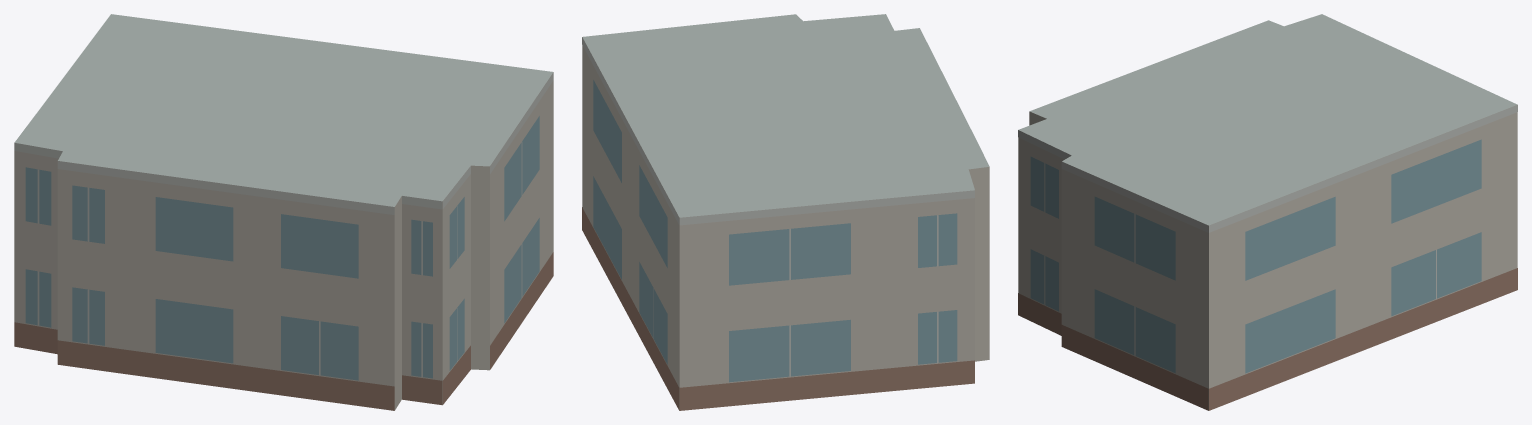
File: survey-upis-32868552.glb
The picture shows the model from 3 angles, left to right: view 1: azimuth 30°, elevation 25°; view 2: azimuth 150°, elevation 25°; view 3: azimuth 270°, elevation 25°; orthographic projection. The views are drawn at different scales.
Parts seen in each view (by area): view 1: survey-upis-32868552.tmp; view 2: survey-upis-32868552.tmp; view 3: survey-upis-32868552.tmp.
Boxes of the visible parts, box(x1,y1,x2,y2) form: survey-upis-32868552.tmp: box(14, 14, 553, 410); survey-upis-32868552.tmp: box(582, 14, 989, 410); survey-upis-32868552.tmp: box(1018, 14, 1517, 410).
Size of the model in its own units: 14.95 by 6.1 by 14.92.
